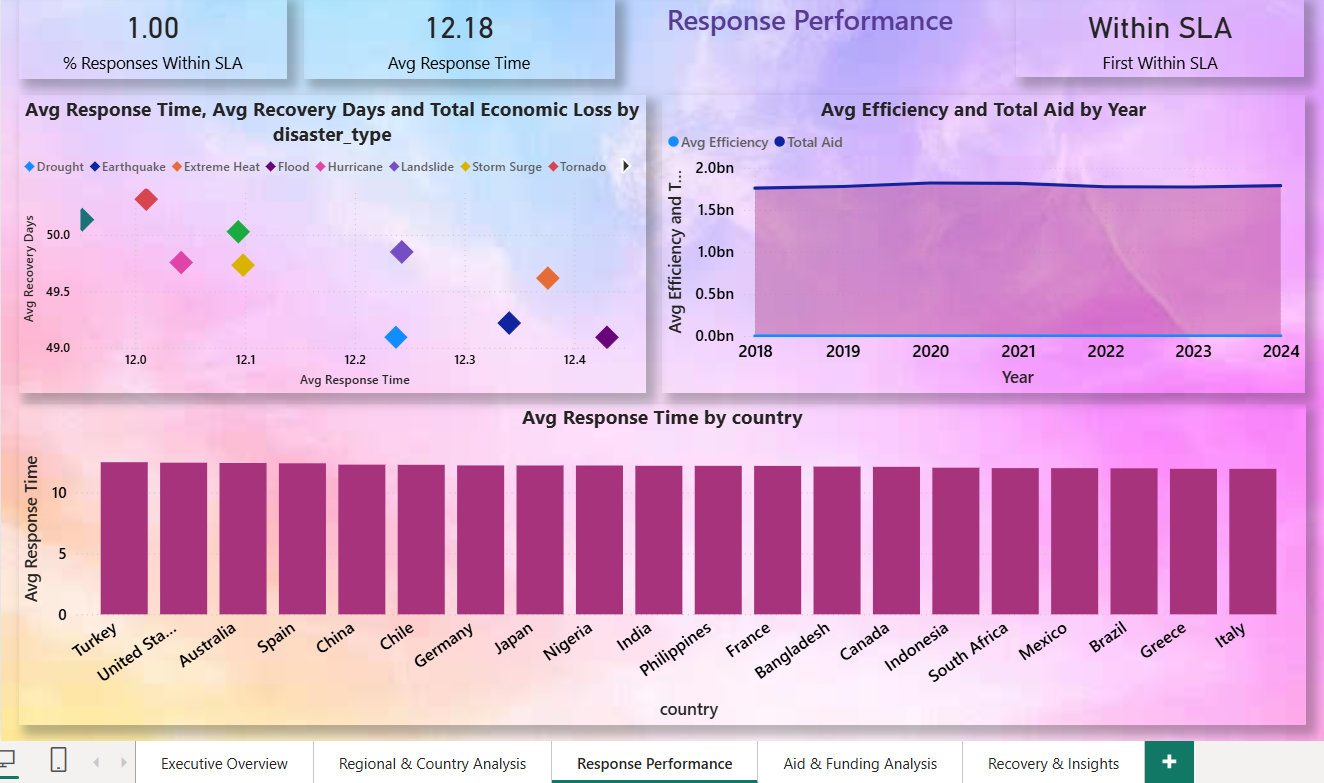

What the dashboard file says about the page in this screenshot:
{"tool":"powerbi","page":{"name":"Response Performance","canvas":[1280,720],"ordinal":2},"visuals":[{"type":"scatterChart","fields":{"X":["global_disaster_response_2018_2024.Avg Response Time"],"Y":["global_disaster_response_2018_2024.Avg Recovery Days"],"Size":["global_disaster_response_2018_2024.Total Economic Loss"],"Series":["global_disaster_response_2018_2024.disaster_type"]},"box":[16.9,96.5,605.6,287.1],"z":0},{"type":"lineChart","fields":{"Category":["DateTable.Year"],"Y":["global_disaster_response_2018_2024.Avg Efficiency","global_disaster_response_2018_2024.Total Aid"]},"box":[638.2,96.5,620.1,287.1],"z":1000},{"type":"columnChart","fields":{"Category":["global_disaster_response_2018_2024.country"],"Y":["global_disaster_response_2018_2024.Avg Response Time"]},"box":[16.9,394.5,1242.6,310.1],"z":2000},{"type":"textbox","box":[573.1,0,415,60.3],"z":3000},{"type":"card","fields":{"Values":["global_disaster_response_2018_2024.Avg Response Time"]},"box":[292,0,300.4,80.8],"z":4000},{"type":"card","fields":{"Values":["Min(global_disaster_response_2018_2024.Within SLA)"]},"box":[979.6,1.2,278.7,78.4],"z":5000},{"type":"card","fields":{"Values":["global_disaster_response_2018_2024.% Responses Within SLA"]},"box":[16.9,0,259.4,80.8],"z":6000}]}

Visuals, with their boxes on the page's 1280x720 design canvas (x1, y1, x2, y2). These are canvas units, not pixel positions in the 1324x783 screenshot, which may show the page scaled, cropped or inside an application window:
scatterChart - global_disaster_response_2018_2024.Avg Response Time x global_disaster_response_2018_2024.Avg Recovery Days: l=17, t=96, r=622, b=384
lineChart - DateTable.Year x global_disaster_response_2018_2024.Avg Efficiency: l=638, t=96, r=1258, b=384
columnChart - global_disaster_response_2018_2024.country x global_disaster_response_2018_2024.Avg Response Time: l=17, t=394, r=1260, b=705
textbox: l=573, t=0, r=988, b=60
card - global_disaster_response_2018_2024.Avg Response Time: l=292, t=0, r=592, b=81
card - Min(global_disaster_response_2018_2024.Within SLA): l=980, t=1, r=1258, b=80
card - global_disaster_response_2018_2024.% Responses Within SLA: l=17, t=0, r=276, b=81
